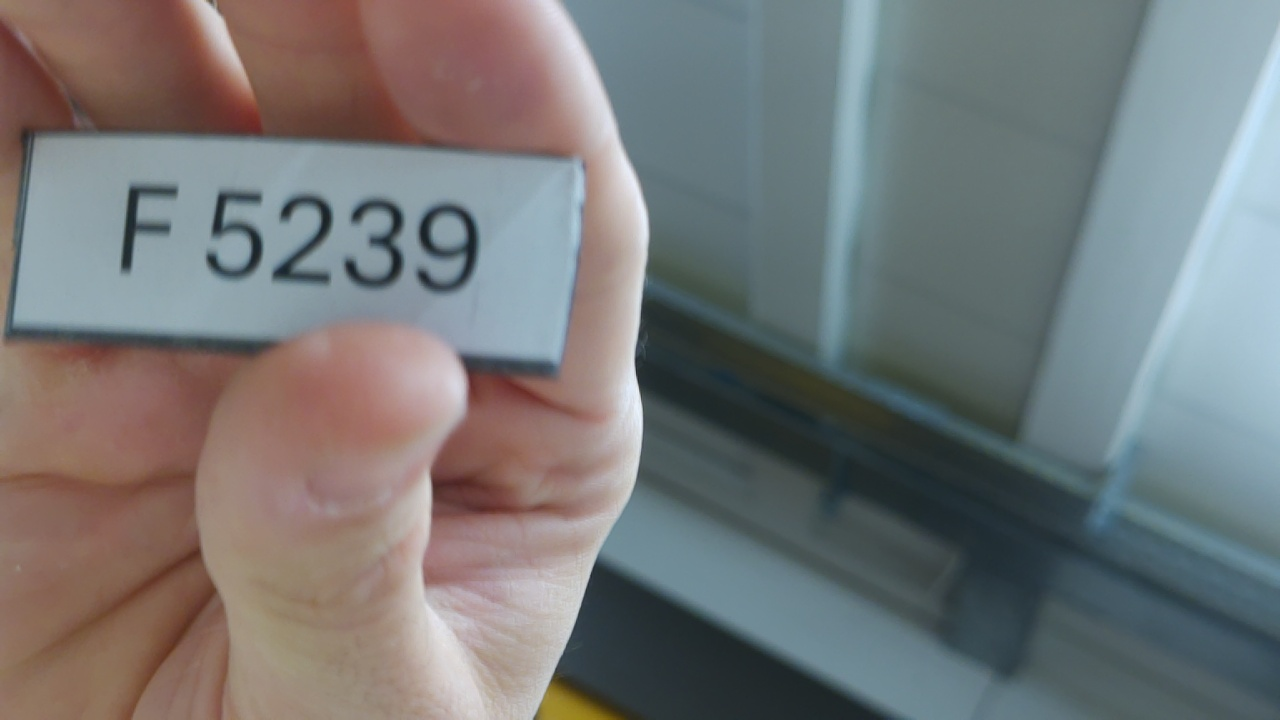license_plate: (2, 120, 596, 383)
